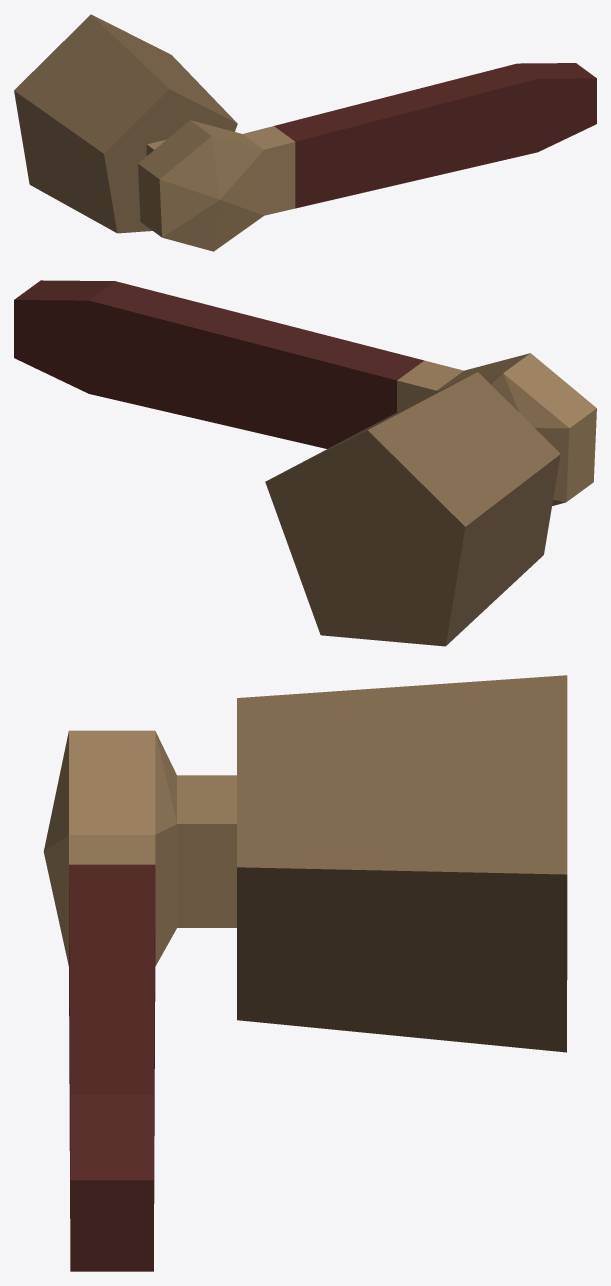
File: SM_Prop_Pipe_Valve_03.fbx
The picture shows the model from 3 angles, top to bottom: view 1: azimuth 30°, elevation 25°; view 2: azimuth 150°, elevation 25°; view 3: azimuth 270°, elevation 25°; orthographic projection. The views are drawn at different scales.
Parts seen in each view (by area): view 1: SM_Prop_Pipe_Valve_03_Wheel, SM_Prop_Pipe_Valve_03; view 2: SM_Prop_Pipe_Valve_03, SM_Prop_Pipe_Valve_03_Wheel; view 3: SM_Prop_Pipe_Valve_03, SM_Prop_Pipe_Valve_03_Wheel.
Boxes of the visible parts, left/top/right/bottom form: SM_Prop_Pipe_Valve_03_Wheel: left=138, top=63, right=596, bottom=251; SM_Prop_Pipe_Valve_03: left=14, top=14, right=237, bottom=233; SM_Prop_Pipe_Valve_03: left=265, top=372, right=560, bottom=646; SM_Prop_Pipe_Valve_03_Wheel: left=14, top=280, right=596, bottom=505; SM_Prop_Pipe_Valve_03: left=237, top=675, right=567, bottom=1052; SM_Prop_Pipe_Valve_03_Wheel: left=43, top=730, right=236, bottom=1271.
Bounding box in the file's own units: 30.81 × 10.95 × 15.23.
